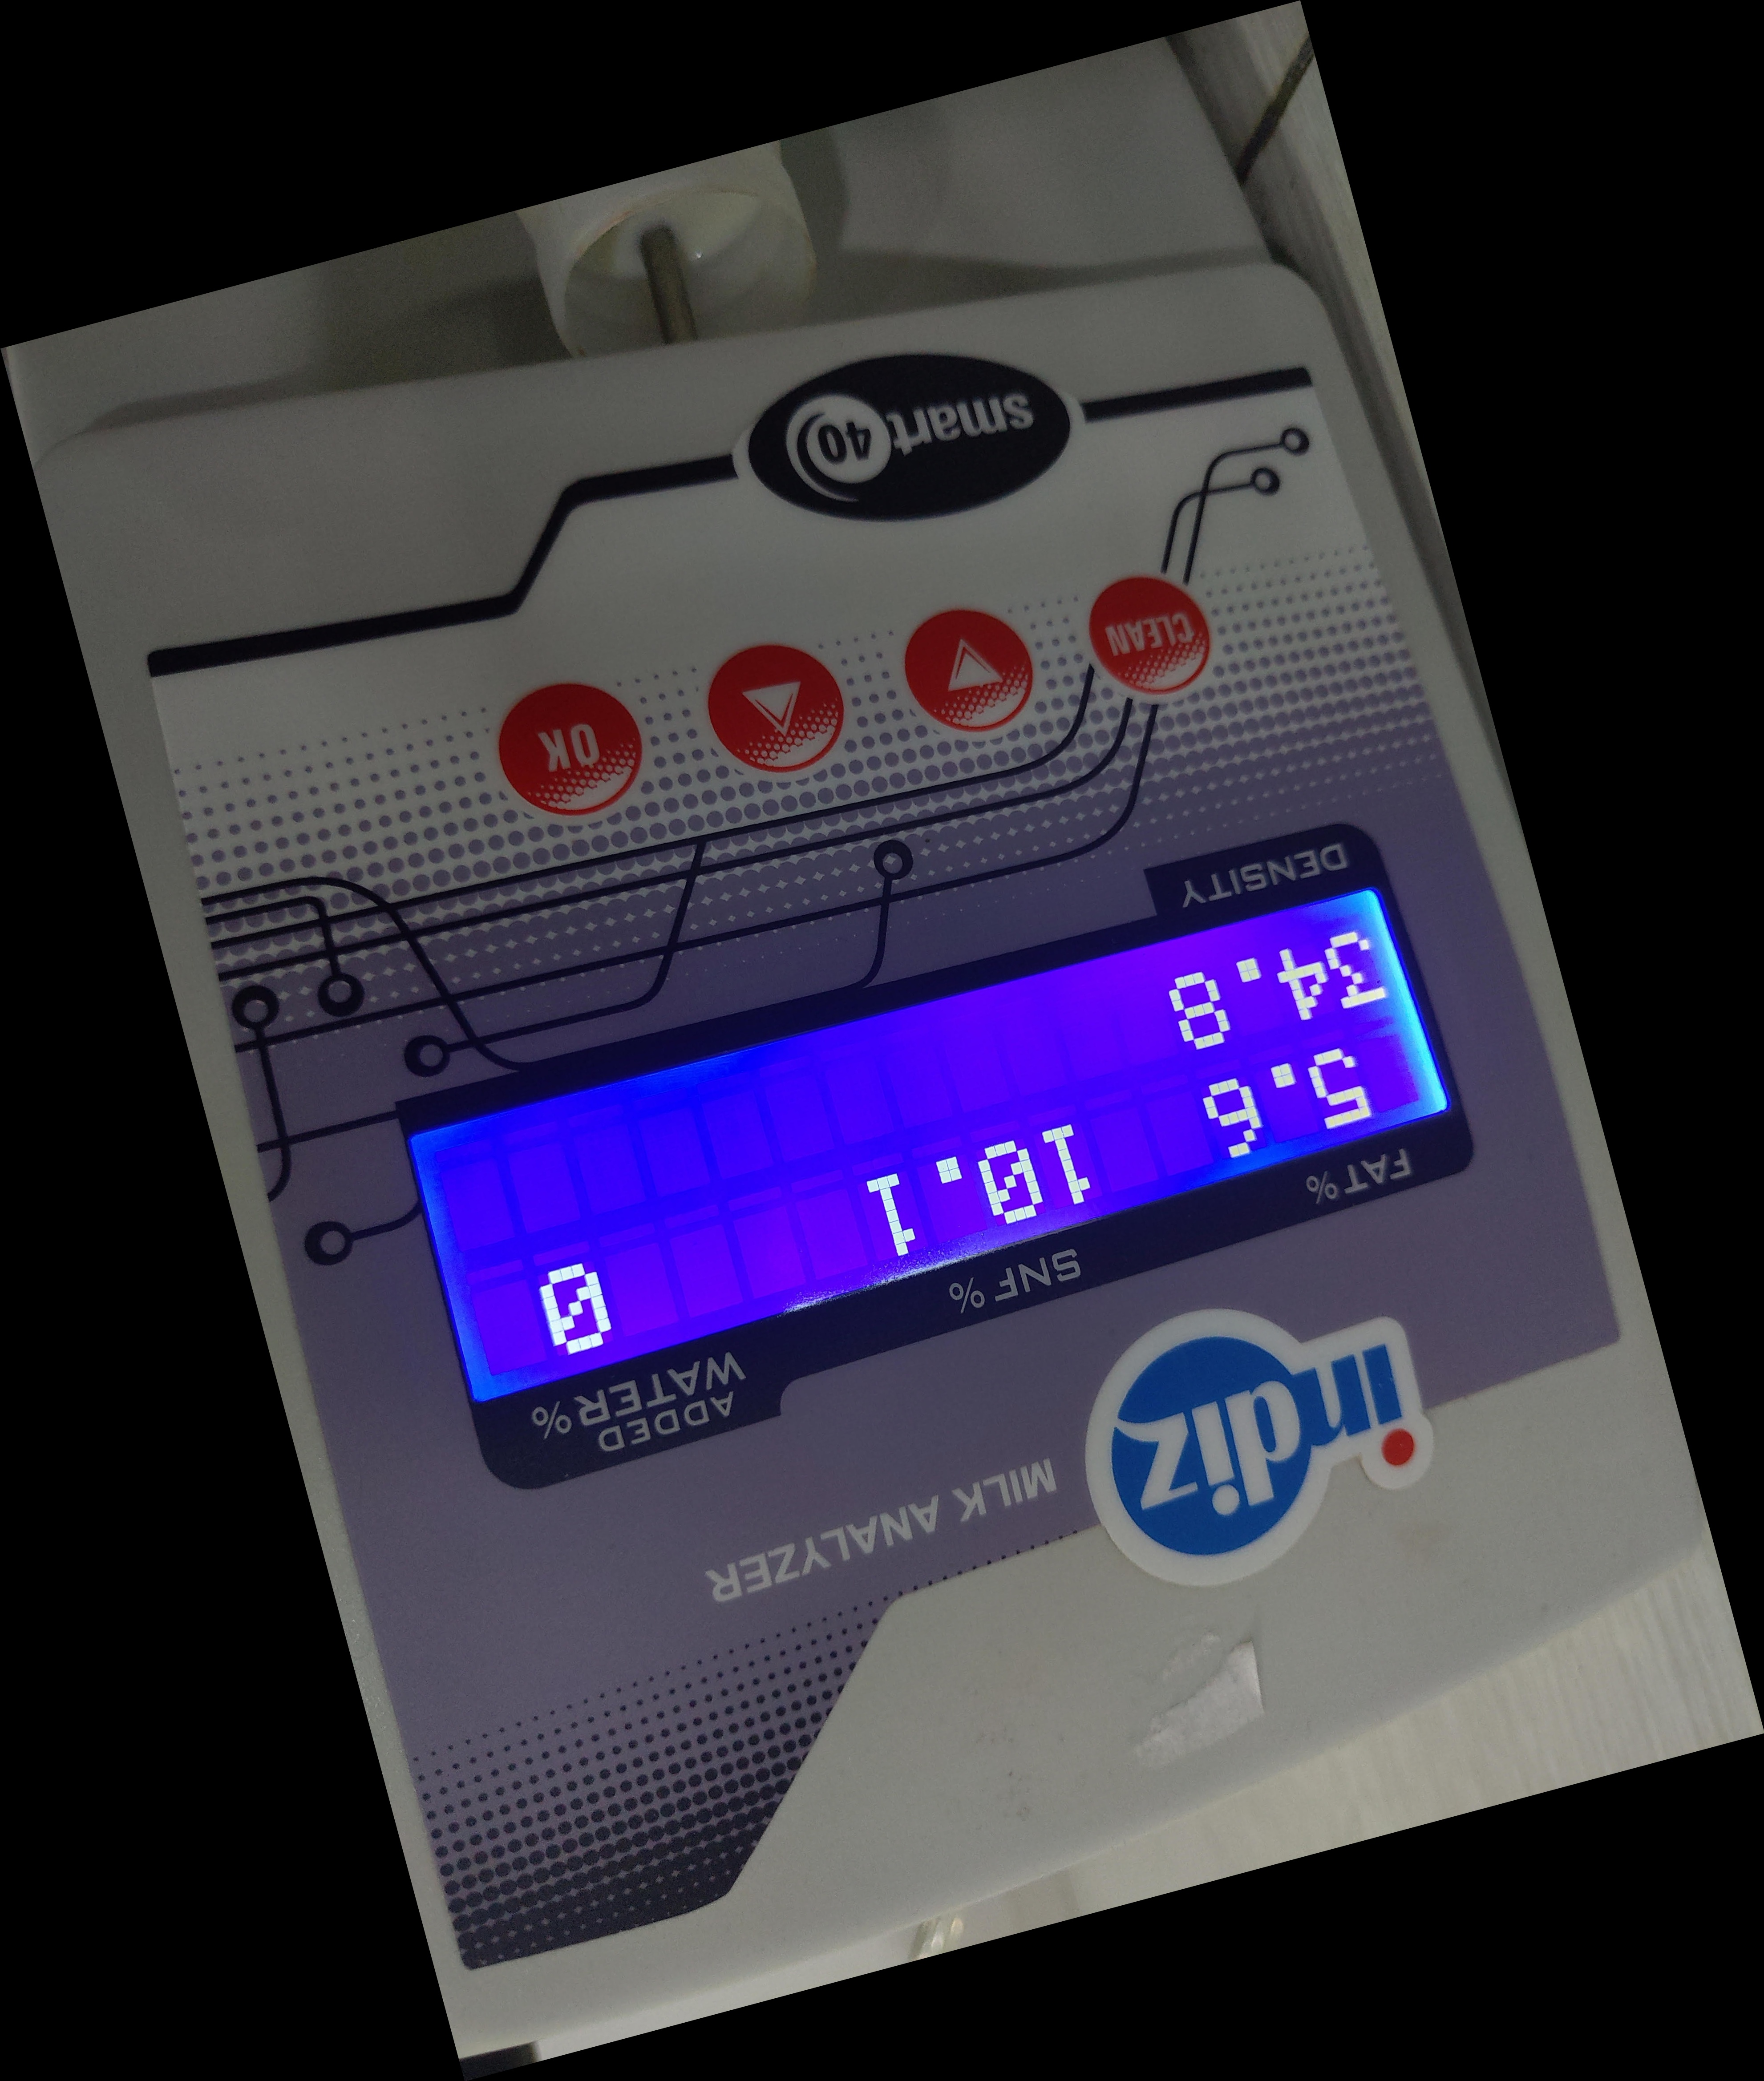lcd: (416, 875, 1459, 1428)
